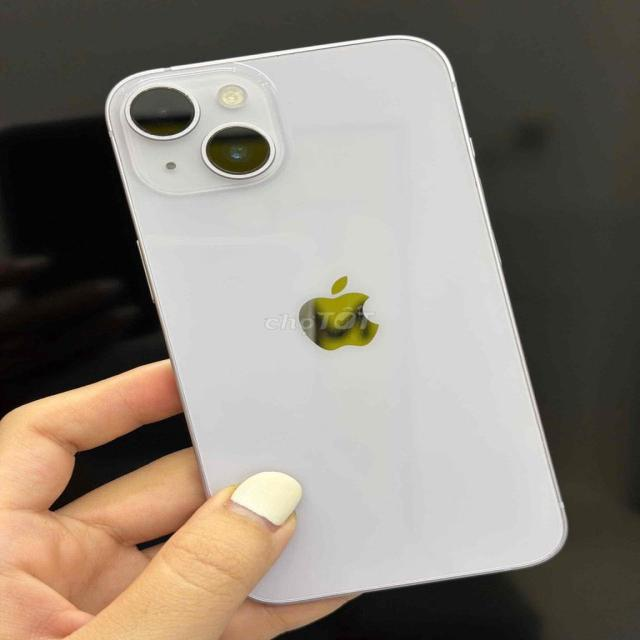gen_14: (99, 34, 575, 606)
